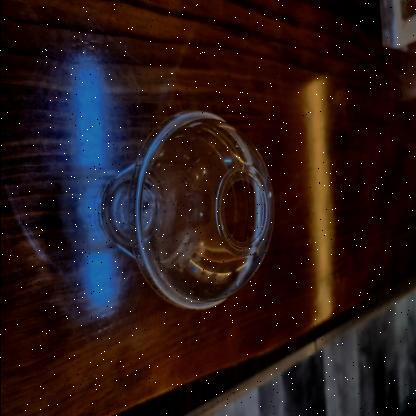Others: (126, 99, 276, 315)
